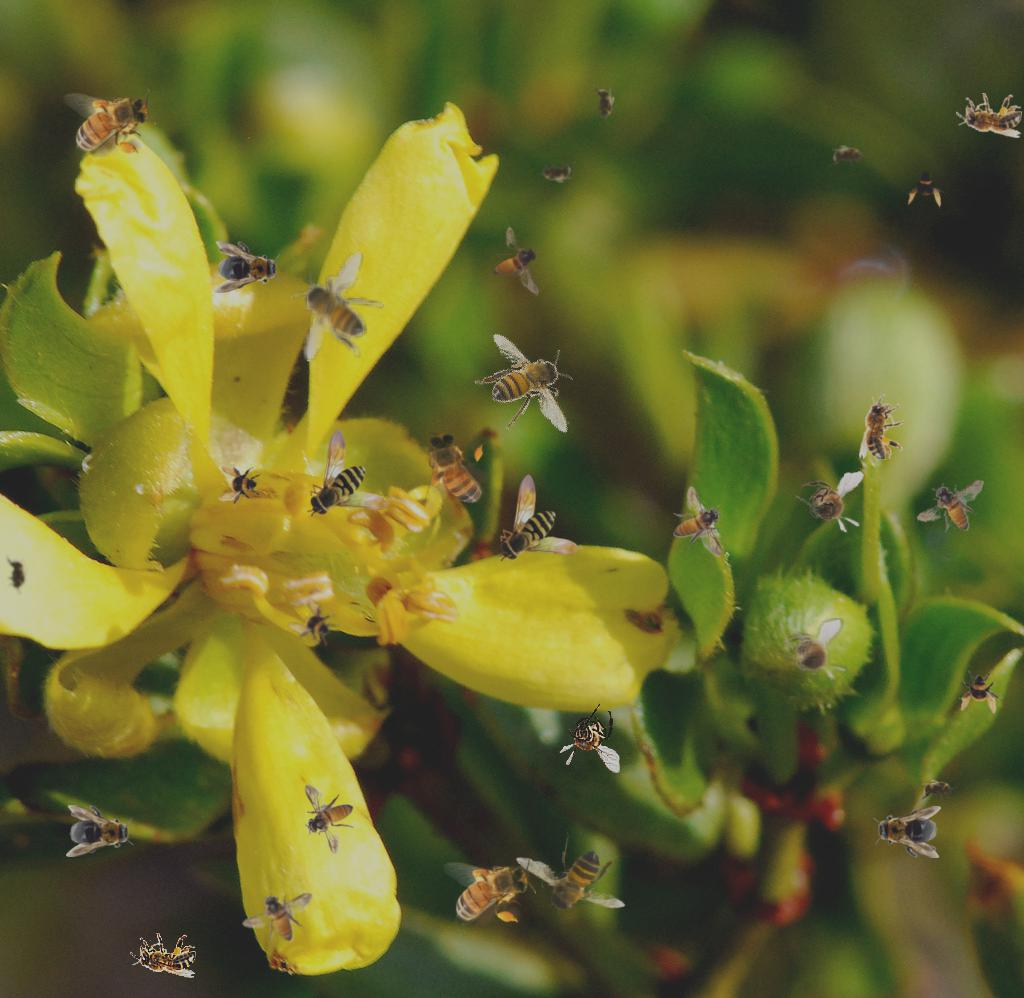Bee: (457, 319, 600, 455), (513, 829, 628, 927), (291, 251, 385, 362), (307, 429, 389, 517), (497, 474, 579, 562), (773, 616, 856, 694), (443, 858, 536, 926), (420, 424, 488, 517), (63, 89, 156, 157), (793, 471, 868, 537), (912, 478, 990, 537), (559, 703, 620, 773), (283, 594, 345, 656), (491, 225, 541, 296), (304, 784, 354, 855), (242, 892, 313, 942), (673, 486, 723, 557), (873, 806, 941, 858), (214, 241, 282, 293), (66, 805, 134, 857), (130, 933, 196, 978), (859, 394, 904, 460), (956, 93, 1022, 138), (905, 165, 949, 209), (959, 670, 1003, 714), (218, 464, 262, 508), (918, 779, 958, 801), (536, 161, 576, 183), (828, 145, 868, 167), (593, 84, 615, 124), (6, 555, 28, 595)
